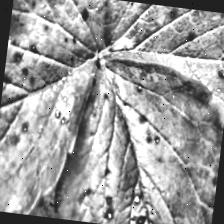Leaf Spot: (53, 51, 224, 224), (0, 0, 110, 221), (85, 0, 224, 155)
